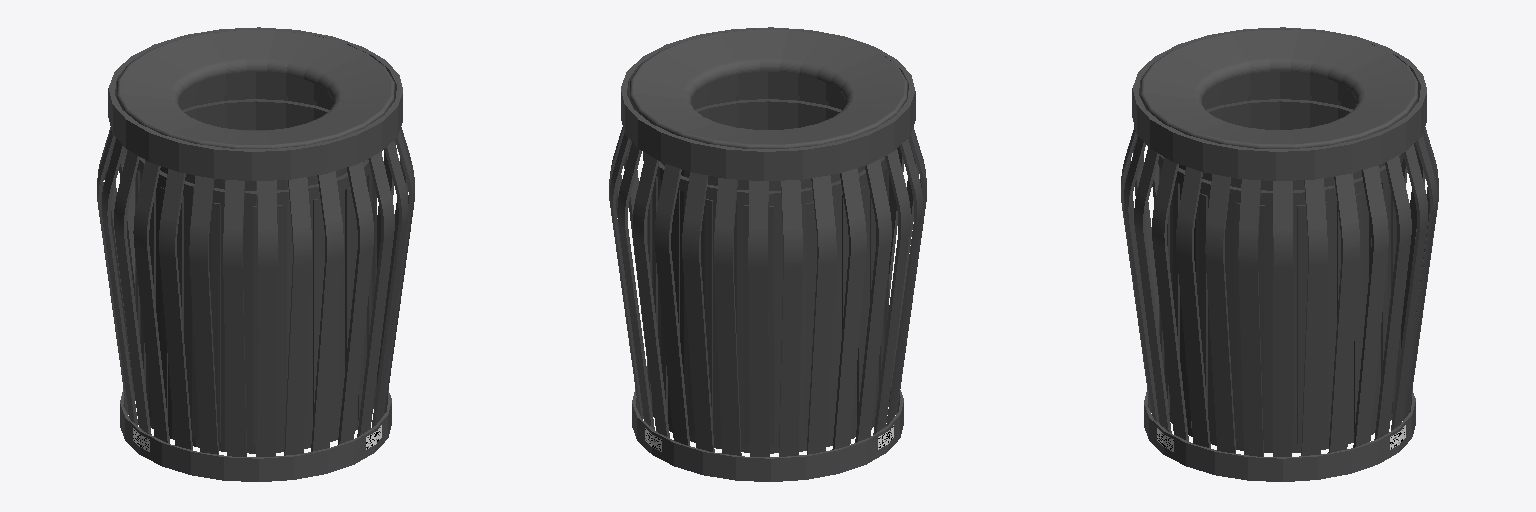
The picture shows the model from 3 angles: view 1: azimuth 30°, elevation 25°; view 2: azimuth 150°, elevation 25°; view 3: azimuth 270°, elevation 25°; orthographic projection.
Visible parts, largest first — view 1: mesh191_mesh191-geometry, mesh76_mesh76-geometry, mesh120_mesh120-geometry, mesh103_mesh103-geometry, mesh114_mesh114-geometry, mesh146_mesh146-geometry, mesh97_mesh97-geometry, mesh131_mesh131-geometry, mesh100_mesh100-geometry, mesh111_mesh111-geometry, mesh179_mesh179-geometry, mesh149_mesh149-geometry (+14 smaller); view 2: mesh191_mesh191-geometry, mesh76_mesh76-geometry, mesh120_mesh120-geometry, mesh103_mesh103-geometry, mesh137_mesh137-geometry, mesh140_mesh140-geometry, mesh128_mesh128-geometry, mesh117_mesh117-geometry, mesh158_mesh158-geometry, mesh134_mesh134-geometry, mesh161_mesh161-geometry, mesh143_mesh143-geometry (+14 smaller); view 3: mesh191_mesh191-geometry, mesh76_mesh76-geometry, mesh120_mesh120-geometry, mesh103_mesh103-geometry, mesh185_mesh185-geometry, mesh188_mesh188-geometry, mesh182_mesh182-geometry, mesh167_mesh167-geometry, mesh125_mesh125-geometry, mesh170_mesh170-geometry, mesh155_mesh155-geometry, mesh173_mesh173-geometry (+15 smaller).
Boxes of the visible parts, x1,y1,x2,y2 form: mesh191_mesh191-geometry: [117, 30, 394, 148]; mesh76_mesh76-geometry: [137, 72, 374, 453]; mesh120_mesh120-geometry: [108, 27, 402, 180]; mesh103_mesh103-geometry: [120, 389, 391, 481]; mesh114_mesh114-geometry: [223, 180, 246, 456]; mesh146_mesh146-geometry: [256, 180, 277, 456]; mesh97_mesh97-geometry: [284, 177, 311, 455]; mesh131_mesh131-geometry: [189, 175, 218, 454]; mesh100_mesh100-geometry: [311, 171, 343, 451]; mesh111_mesh111-geometry: [159, 169, 192, 449]; mesh179_mesh179-geometry: [338, 162, 373, 444]; mesh149_mesh149-geometry: [133, 160, 169, 443]; mesh191_mesh191-geometry: [630, 29, 907, 148]; mesh76_mesh76-geometry: [643, 72, 887, 453]; mesh120_mesh120-geometry: [621, 27, 915, 180]; mesh103_mesh103-geometry: [632, 389, 903, 481]; mesh137_mesh137-geometry: [779, 180, 802, 456]; mesh140_mesh140-geometry: [748, 180, 769, 456]; mesh128_mesh128-geometry: [714, 178, 741, 455]; mesh117_mesh117-geometry: [807, 175, 836, 454]; mesh158_mesh158-geometry: [682, 172, 714, 451]; mesh134_mesh134-geometry: [832, 168, 866, 449]; mesh161_mesh161-geometry: [655, 164, 689, 445]; mesh143_mesh143-geometry: [855, 159, 891, 442]; mesh191_mesh191-geometry: [1140, 29, 1417, 148]; mesh76_mesh76-geometry: [1158, 71, 1403, 452]; mesh120_mesh120-geometry: [1132, 27, 1426, 180]; mesh103_mesh103-geometry: [1144, 390, 1415, 481]; mesh185_mesh185-geometry: [1273, 181, 1292, 456]; mesh188_mesh188-geometry: [1238, 179, 1263, 456]; mesh182_mesh182-geometry: [1301, 178, 1327, 455]; mesh167_mesh167-geometry: [1205, 174, 1235, 453]; mesh125_mesh125-geometry: [1328, 173, 1359, 452]; mesh170_mesh170-geometry: [1176, 167, 1210, 448]; mesh155_mesh155-geometry: [1353, 166, 1388, 447]; mesh173_mesh173-geometry: [1152, 157, 1188, 441].
Size of the model in its own units: 0.5447 by 0.6378 by 0.5445.
4 materials, 1 textured.